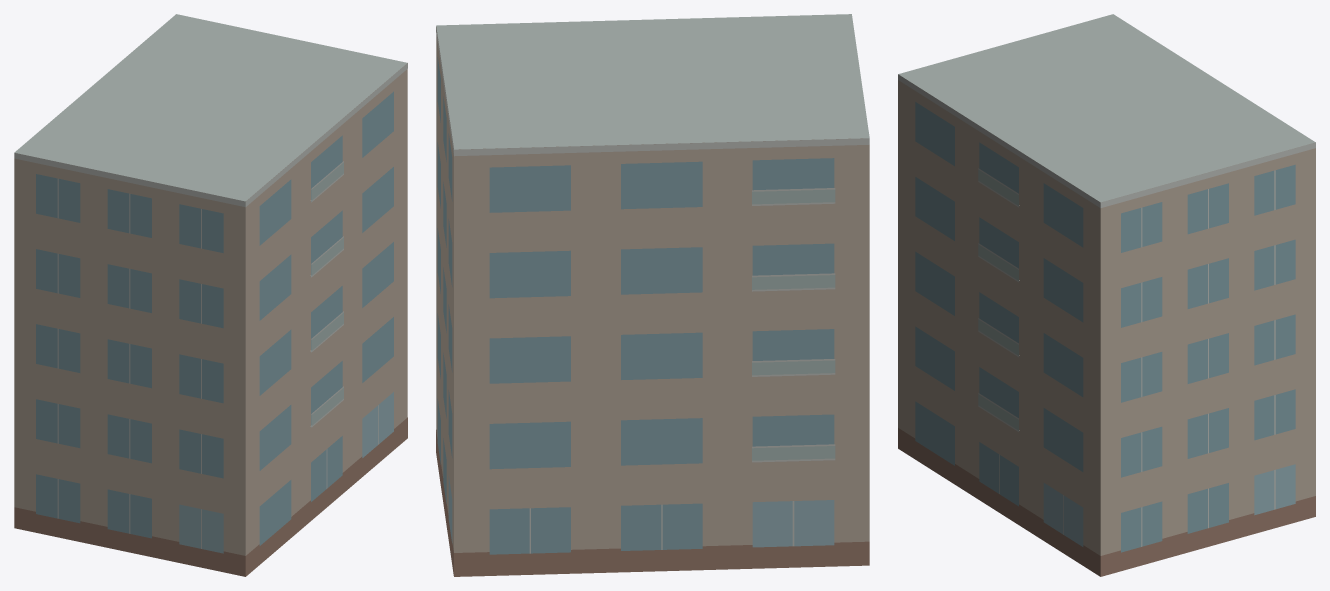
File: survey-upis-32890092.glb
The picture shows the model from 3 angles, left to right: view 1: azimuth 30°, elevation 25°; view 2: azimuth 150°, elevation 25°; view 3: azimuth 270°, elevation 25°; orthographic projection. The views are drawn at different scales.
Visible parts, largest first — view 1: survey-upis-32890092.tmp; view 2: survey-upis-32890092.tmp; view 3: survey-upis-32890092.tmp.
Part boxes in pixels (x1,y1,x2,y2): survey-upis-32890092.tmp: [14, 14, 407, 576]; survey-upis-32890092.tmp: [436, 14, 869, 576]; survey-upis-32890092.tmp: [898, 14, 1315, 576].
Bounding box in the file's own units: 17.06 × 15.8 × 15.98.
